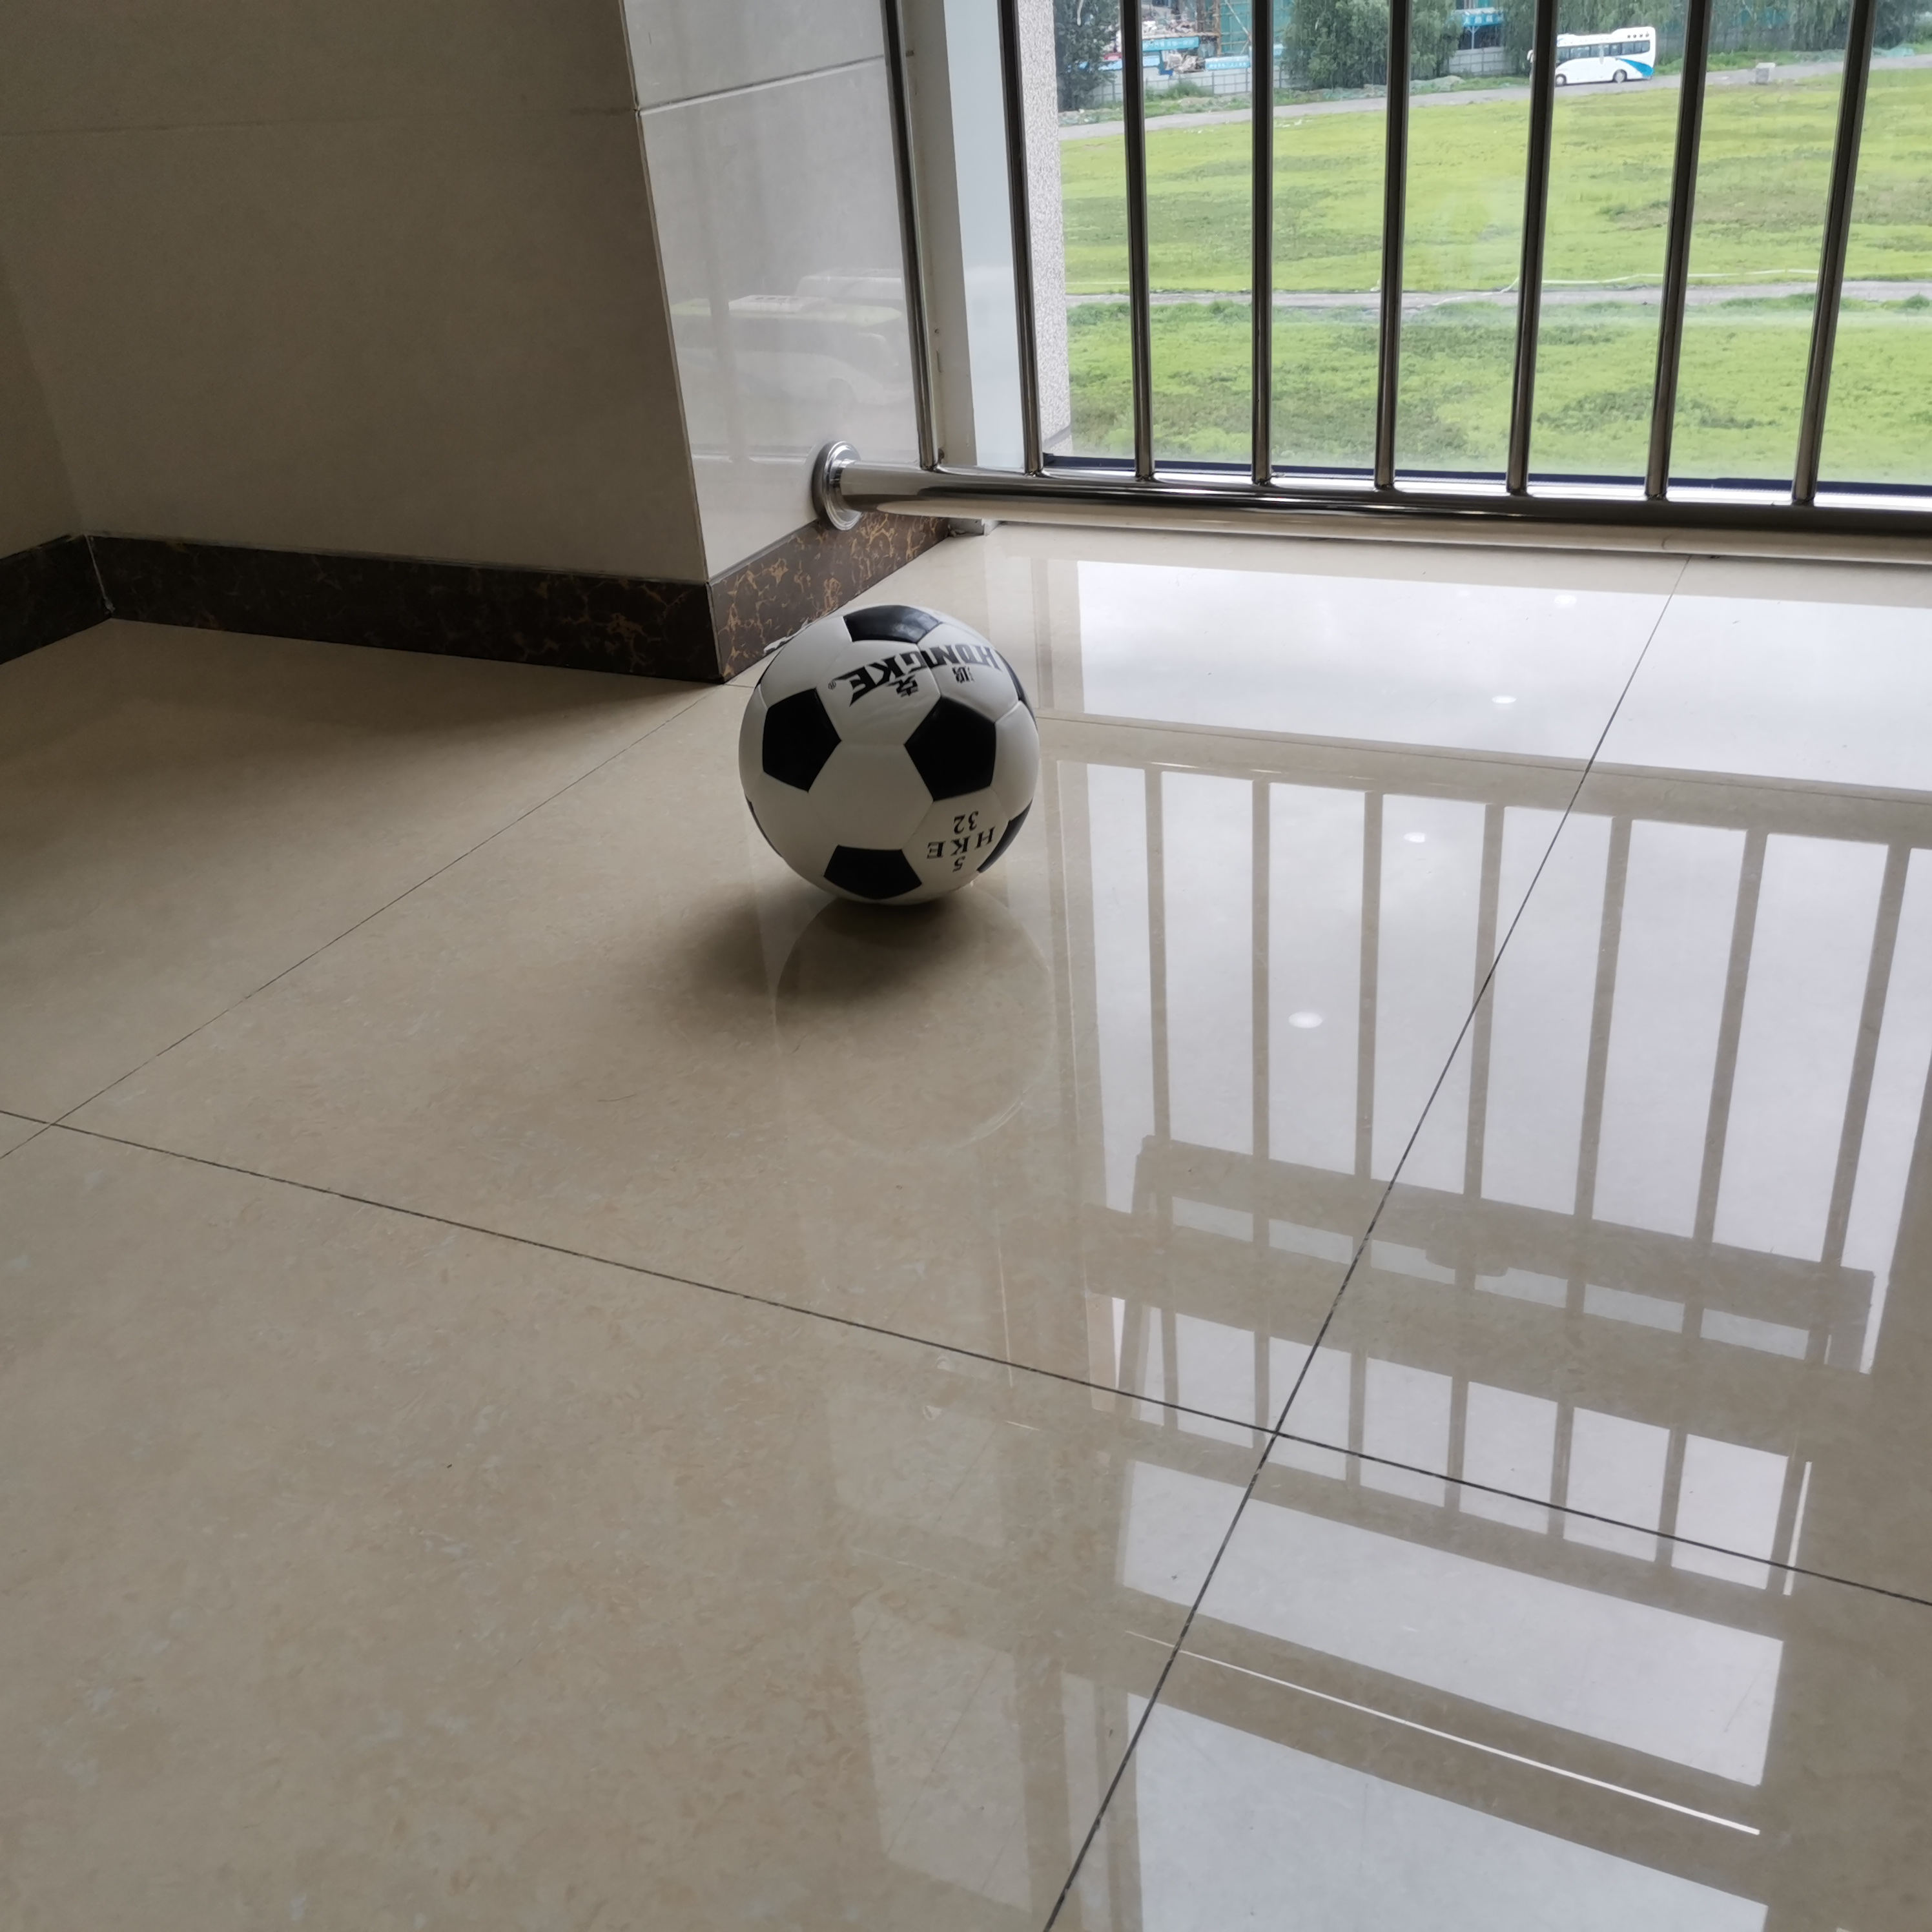football: (736, 605, 1044, 906)
